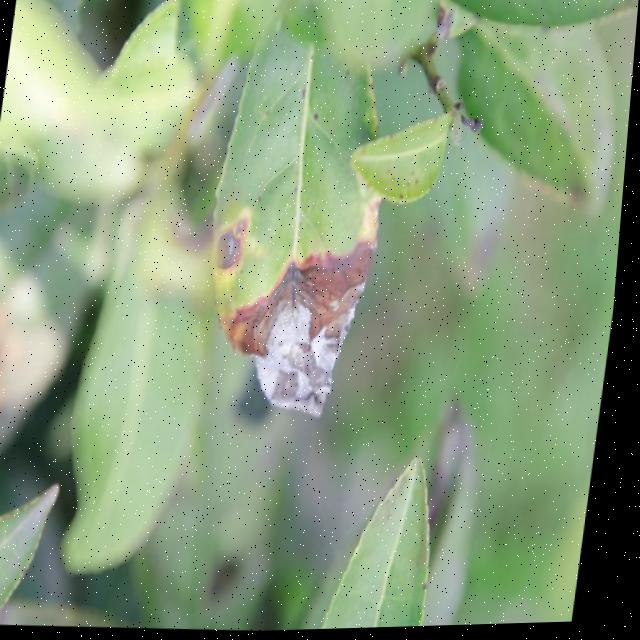Tea cloud leaf blight: (222, 199, 385, 423)
